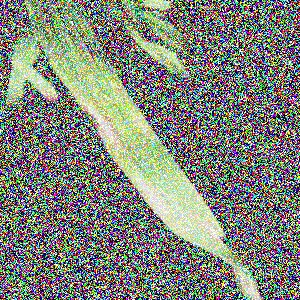Brown_Spot: (72, 92, 128, 145)
